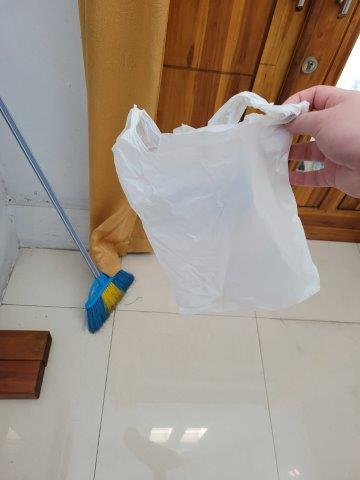plastik: (112, 93, 331, 311)
